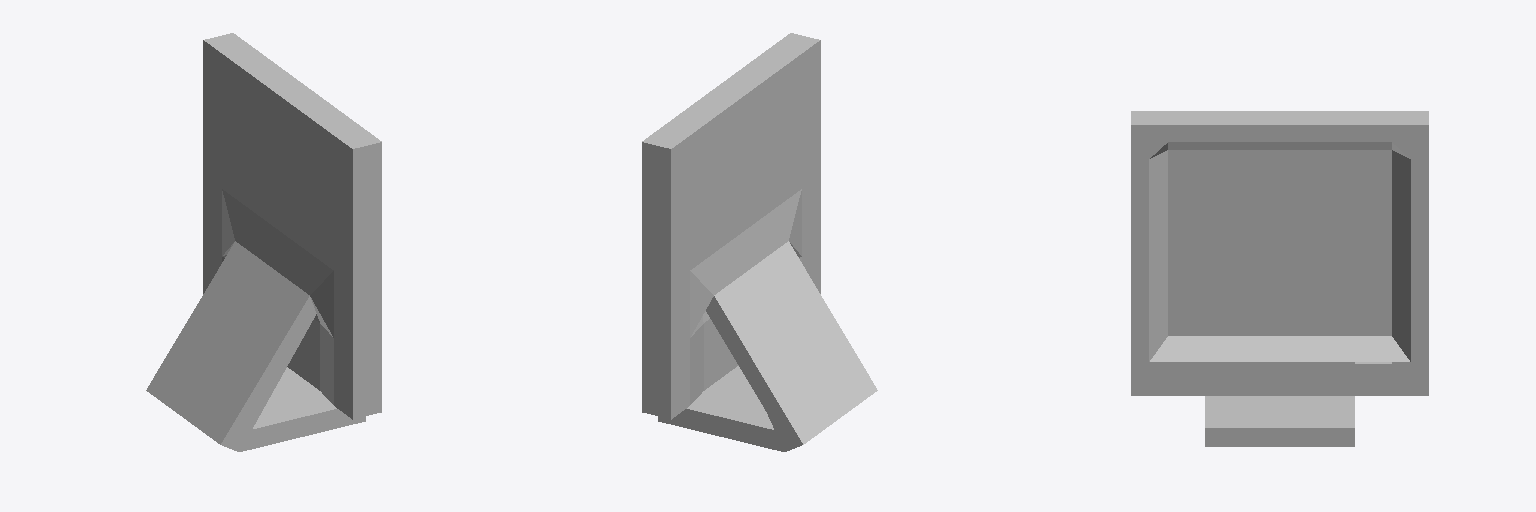
Rendered from monitor.obj.
3 views of the same model, side by side, from view 1: azimuth 30°, elevation 25°; view 2: azimuth 150°, elevation 25°; view 3: azimuth 270°, elevation 25° (orthographic).
Visible parts, largest first — view 1: pasted__pCube25 group; view 2: pasted__pCube25 group; view 3: pasted__pCube25 group.
Boxes of the visible parts, box(x1,y1,x2,y2) form: pasted__pCube25 group: box(146, 33, 381, 451); pasted__pCube25 group: box(642, 33, 877, 451); pasted__pCube25 group: box(1131, 111, 1428, 446).
Size of the model in its own units: 0.5632 by 1.15 by 1.